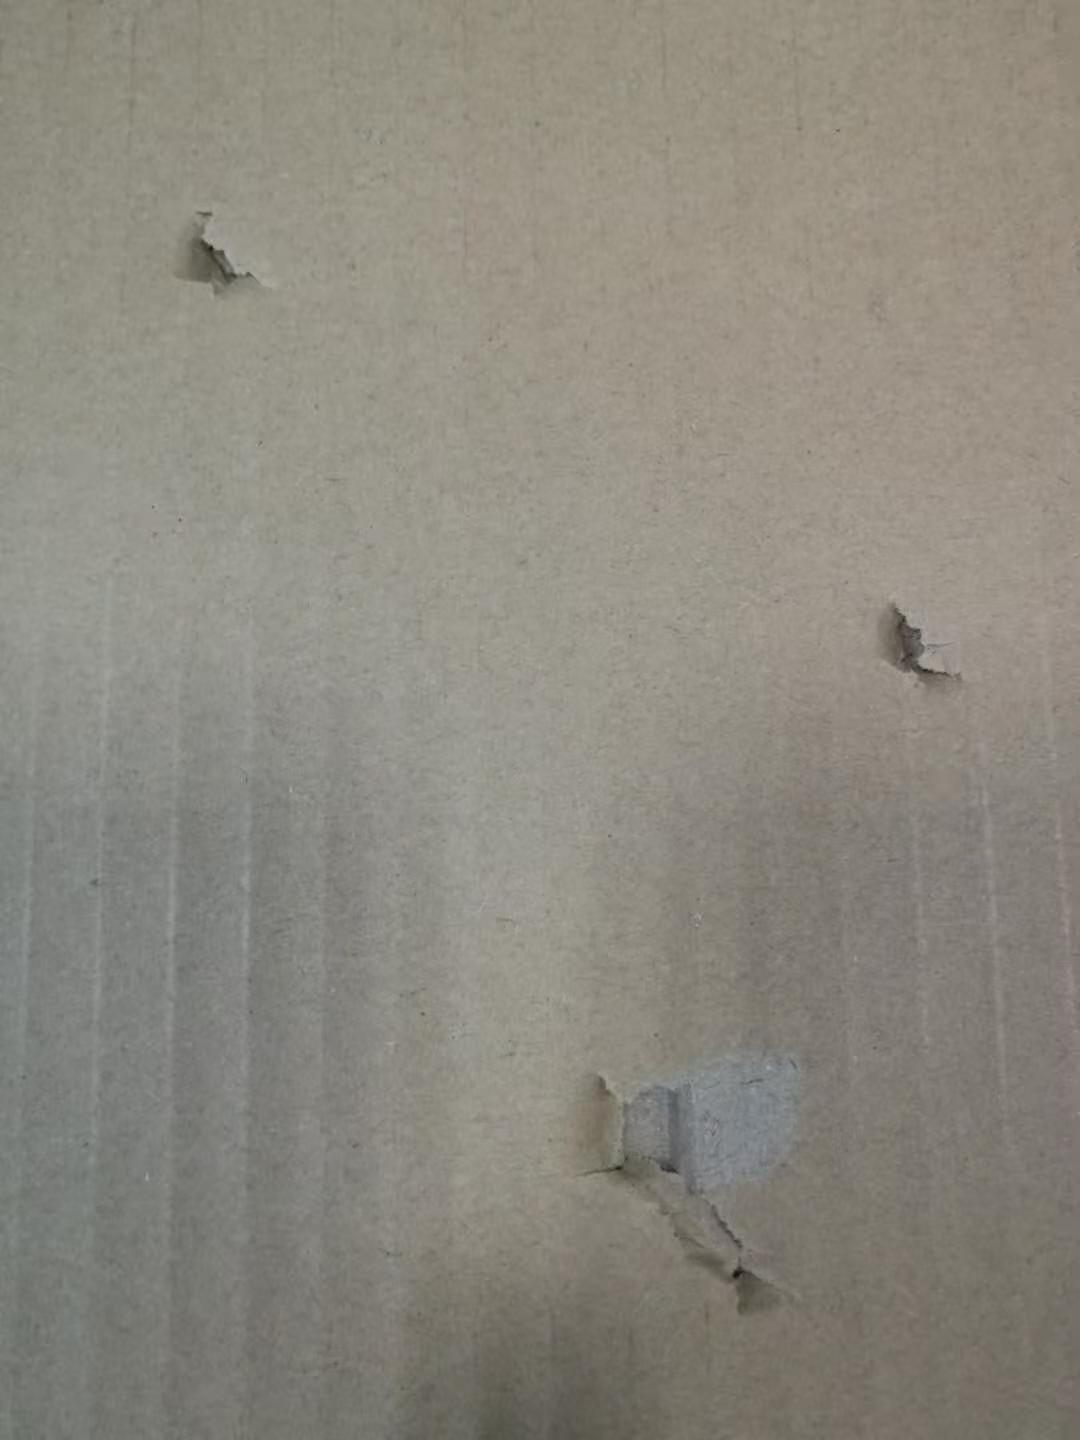defect: (542, 1019, 854, 1350), (849, 567, 974, 715), (159, 179, 286, 324)
